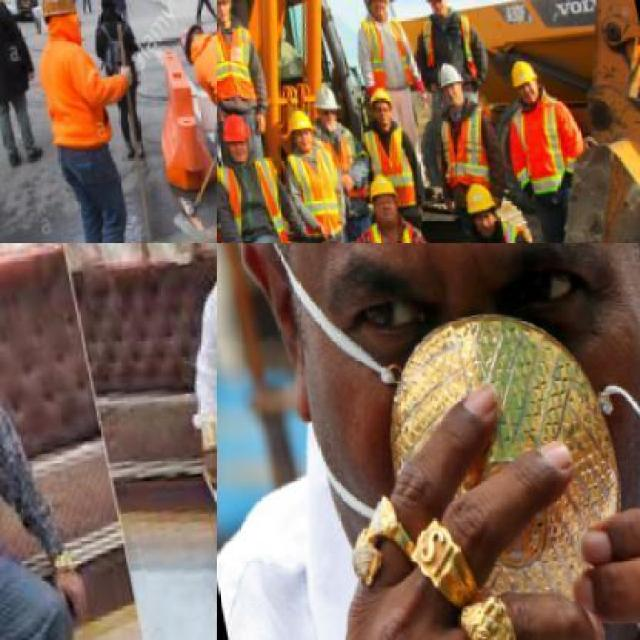Vest: (503, 97, 577, 192), (217, 152, 289, 242), (356, 114, 418, 211), (282, 140, 343, 238), (432, 96, 494, 184), (355, 8, 414, 88), (417, 6, 478, 79), (217, 22, 265, 108), (316, 117, 362, 180), (456, 209, 532, 242), (362, 212, 429, 242)
